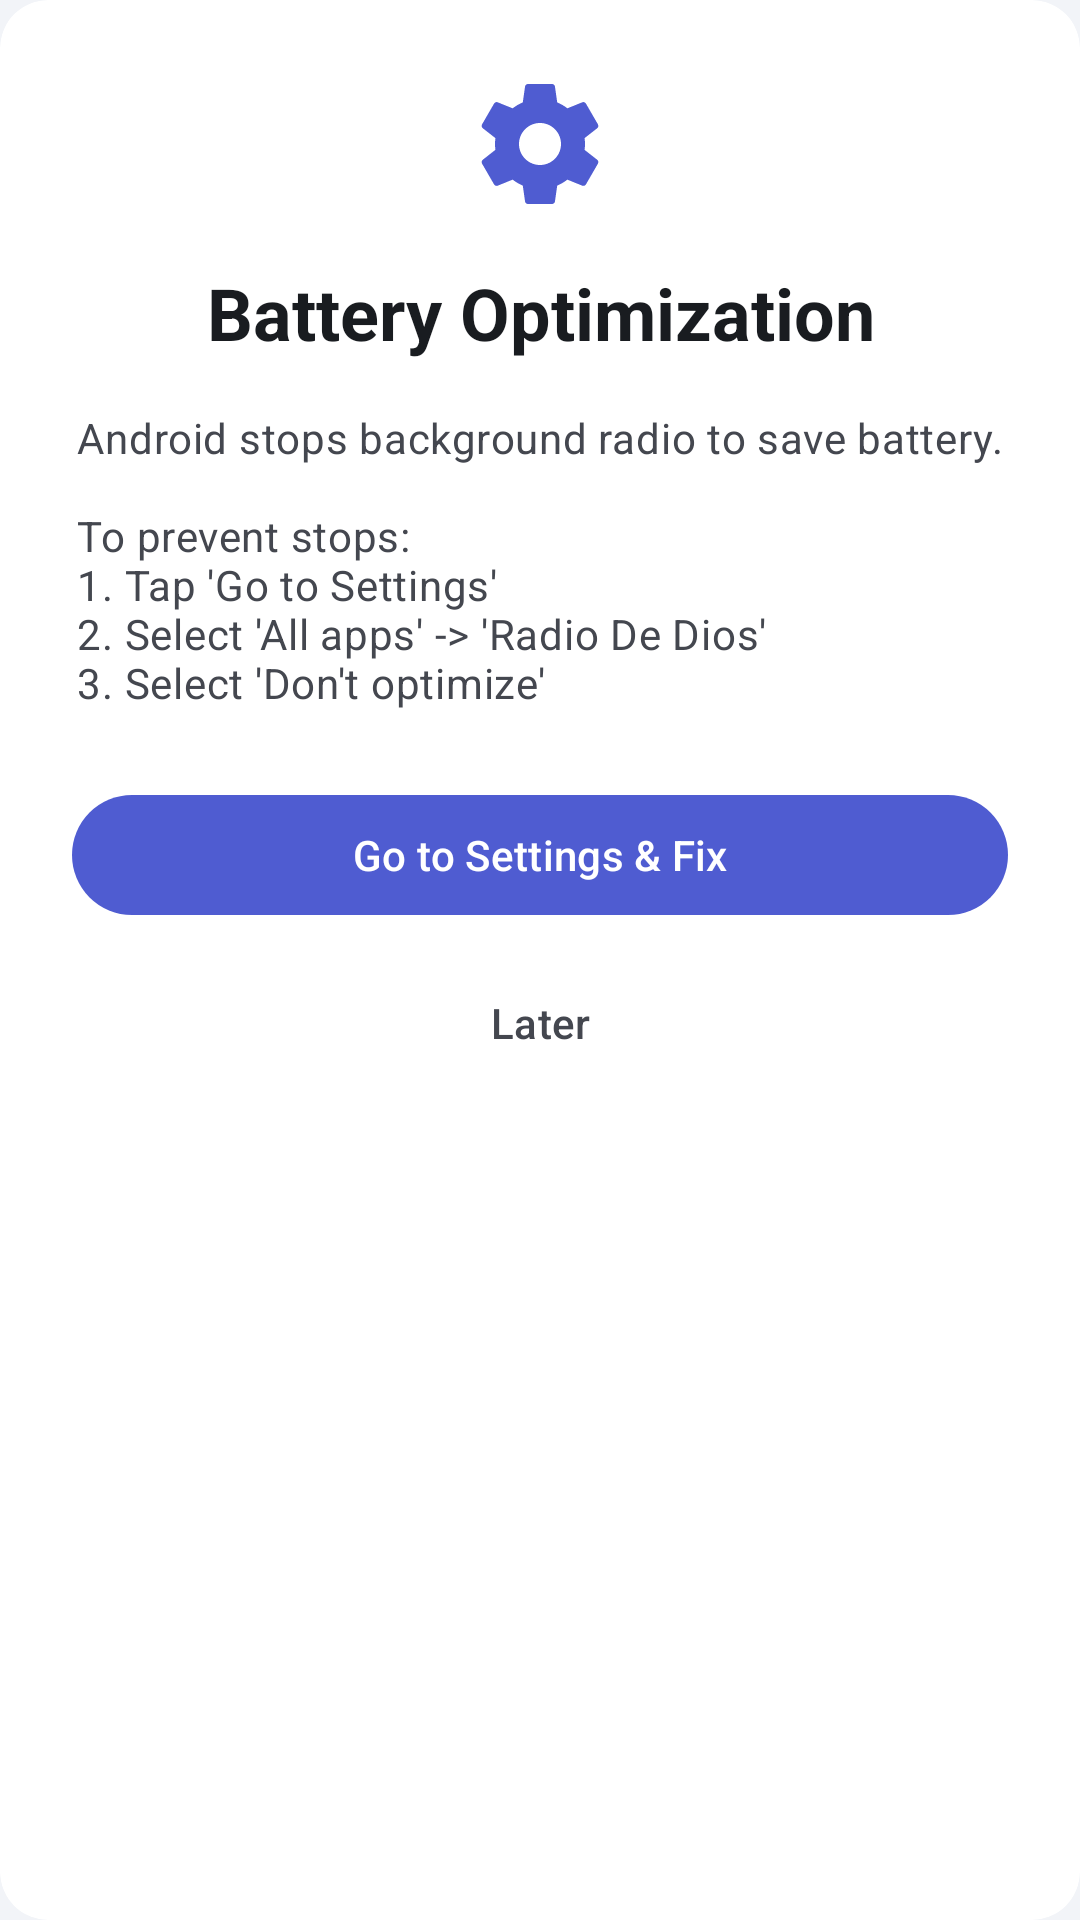

Named icons in this screenshot (1080×1920) and their centers, point (x, y):
settings: point (540, 144)
